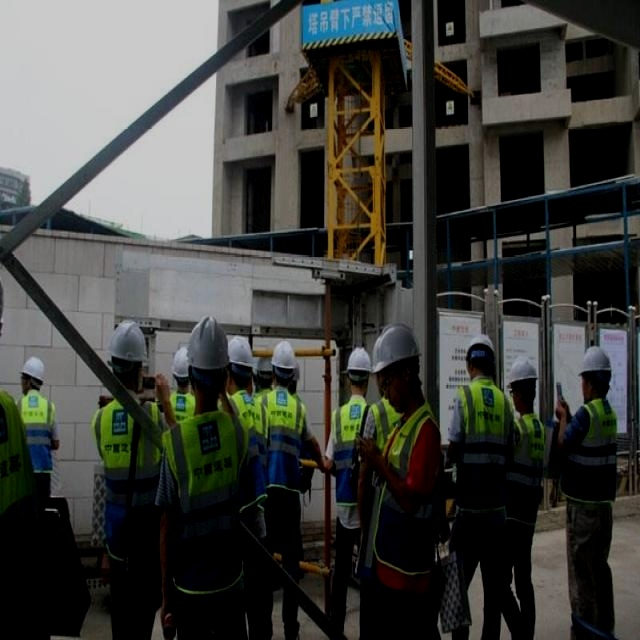Con_Casco: (370, 321, 422, 403), (187, 314, 229, 405)
Con_Chaleco: (159, 415, 251, 592), (369, 405, 445, 582), (457, 382, 511, 522)
